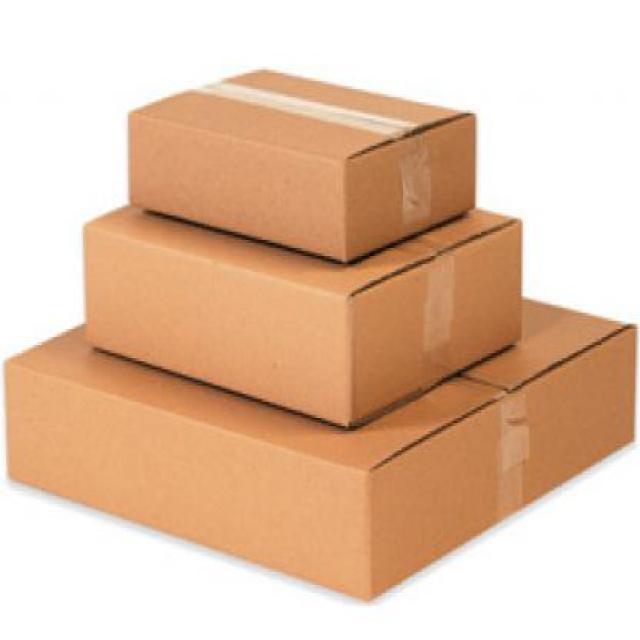box: (0, 295, 638, 623), (61, 180, 553, 429), (117, 42, 506, 287)
